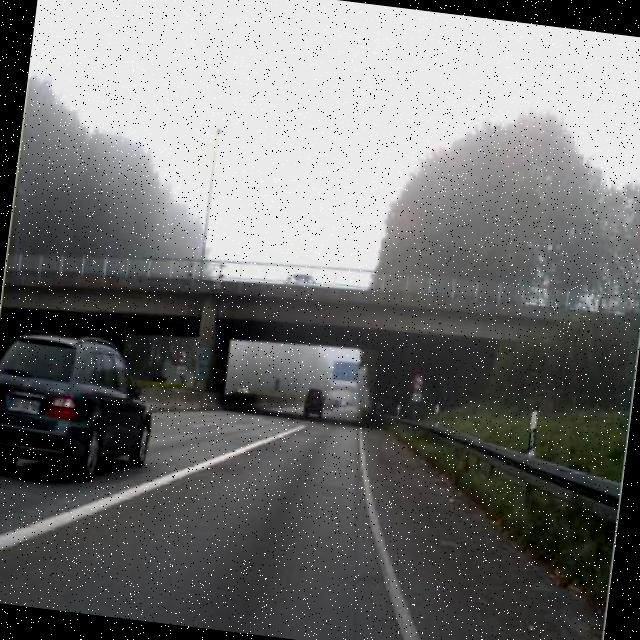Zakaz wyprzedzania: (174, 346, 192, 369), (408, 371, 426, 394)
